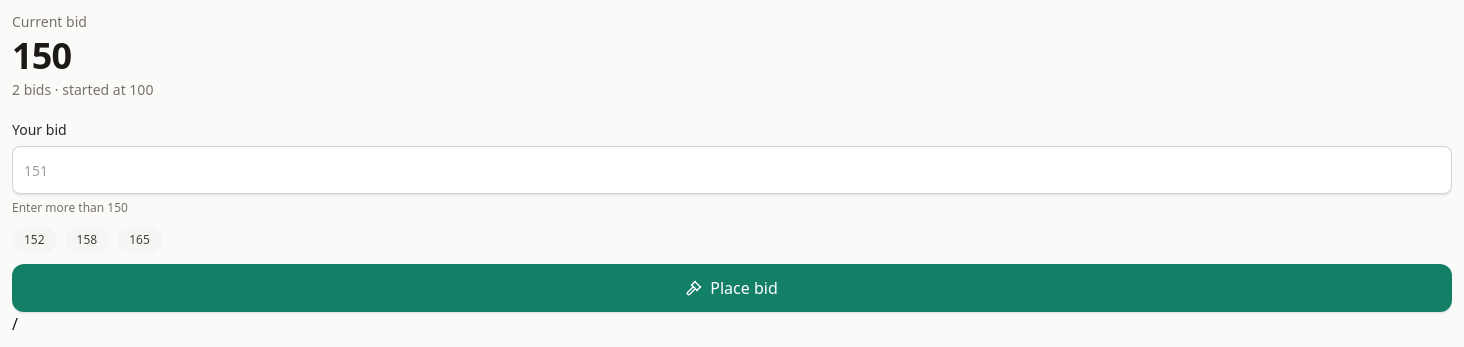
Test: BidPanel › shows the backend conflict message when outbid
The width and height of the screenshot is (1464, 347).
Click the button "152". click: (34, 240)
box: [12, 228, 57, 252]
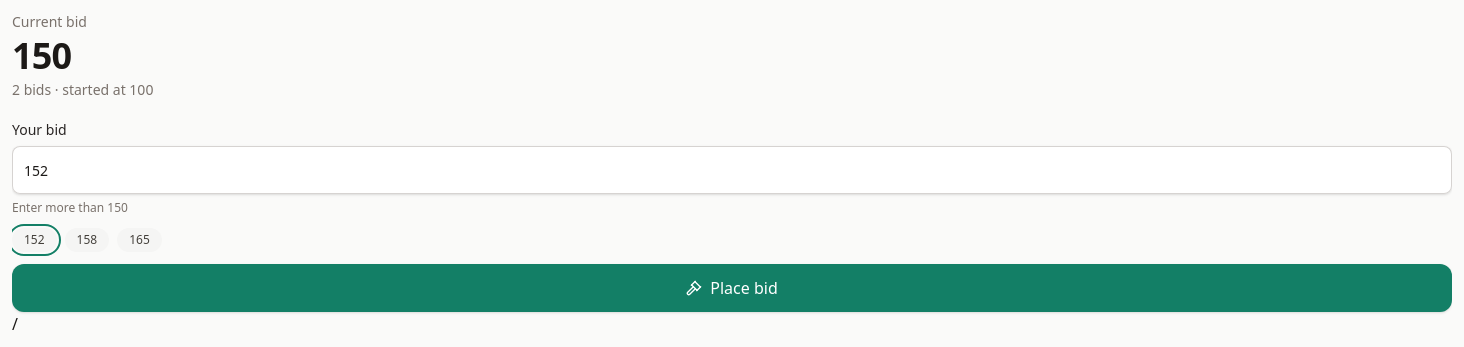
Click the button "Place bid". click: (732, 288)
box: [12, 264, 1452, 312]
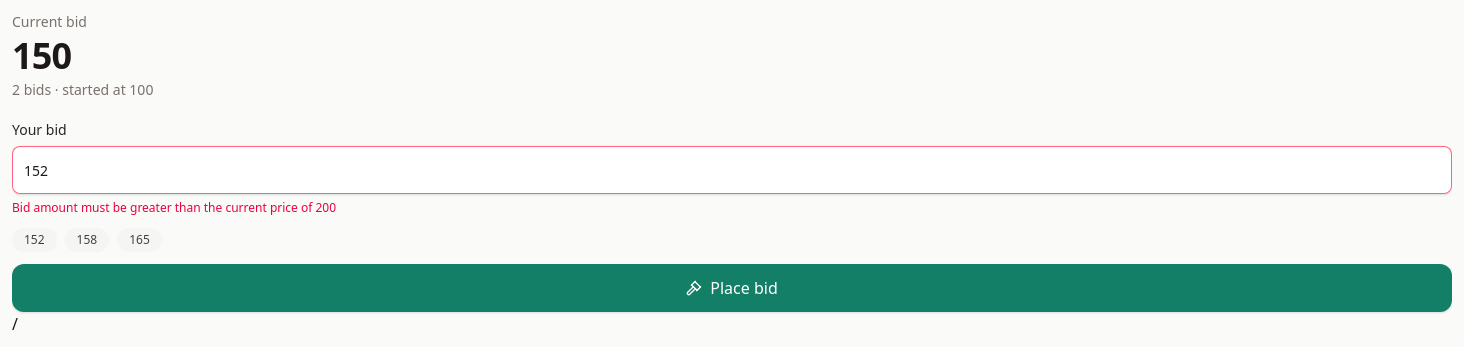
Expected: the text "Bid amount must be greater than the current price of 200" is shown, [12, 199, 336, 216]
